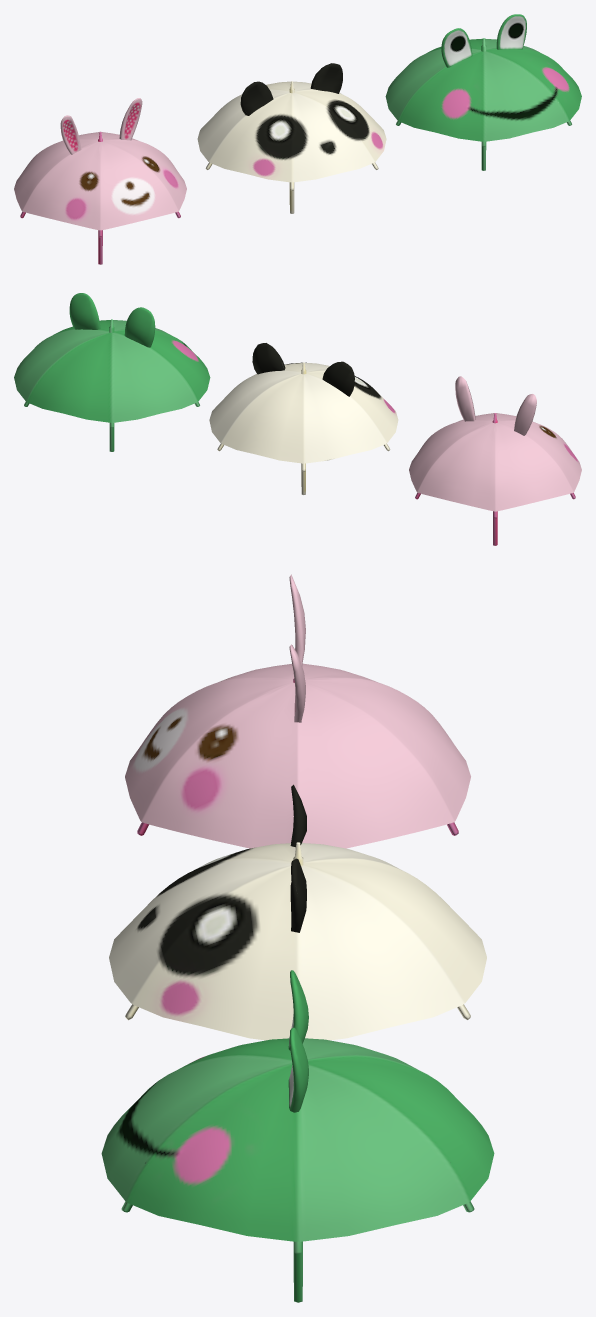
The model's file is Restaurant_Ice cream_Three umbrella.FBX.
The picture shows the model from 3 angles, top to bottom: view 1: azimuth 30°, elevation 25°; view 2: azimuth 150°, elevation 25°; view 3: azimuth 270°, elevation 25°; orthographic projection. The views are drawn at different scales.
Visible parts, largest first — view 1: Restaurant_Ice cream_ Flag005, Restaurant_Ice cream_ Flag004, Restaurant_Ice cream_ Flag003; view 2: Restaurant_Ice cream_ Flag005, Restaurant_Ice cream_ Flag004, Restaurant_Ice cream_ Flag003; view 3: Restaurant_Ice cream_ Flag005, Restaurant_Ice cream_ Flag004, Restaurant_Ice cream_ Flag003.
Boxes of the visible parts, bbox=[...] form: Restaurant_Ice cream_ Flag005: bbox=[385, 14, 581, 170]; Restaurant_Ice cream_ Flag004: bbox=[197, 63, 386, 213]; Restaurant_Ice cream_ Flag003: bbox=[14, 98, 186, 264]; Restaurant_Ice cream_ Flag005: bbox=[14, 293, 210, 451]; Restaurant_Ice cream_ Flag004: bbox=[209, 343, 398, 494]; Restaurant_Ice cream_ Flag003: bbox=[409, 376, 581, 545]; Restaurant_Ice cream_ Flag005: bbox=[101, 970, 494, 1302]; Restaurant_Ice cream_ Flag004: bbox=[109, 784, 486, 1040]; Restaurant_Ice cream_ Flag003: bbox=[125, 574, 470, 848].
Size of the model in its own units: 10.42 by 2.87 by 3.22.
